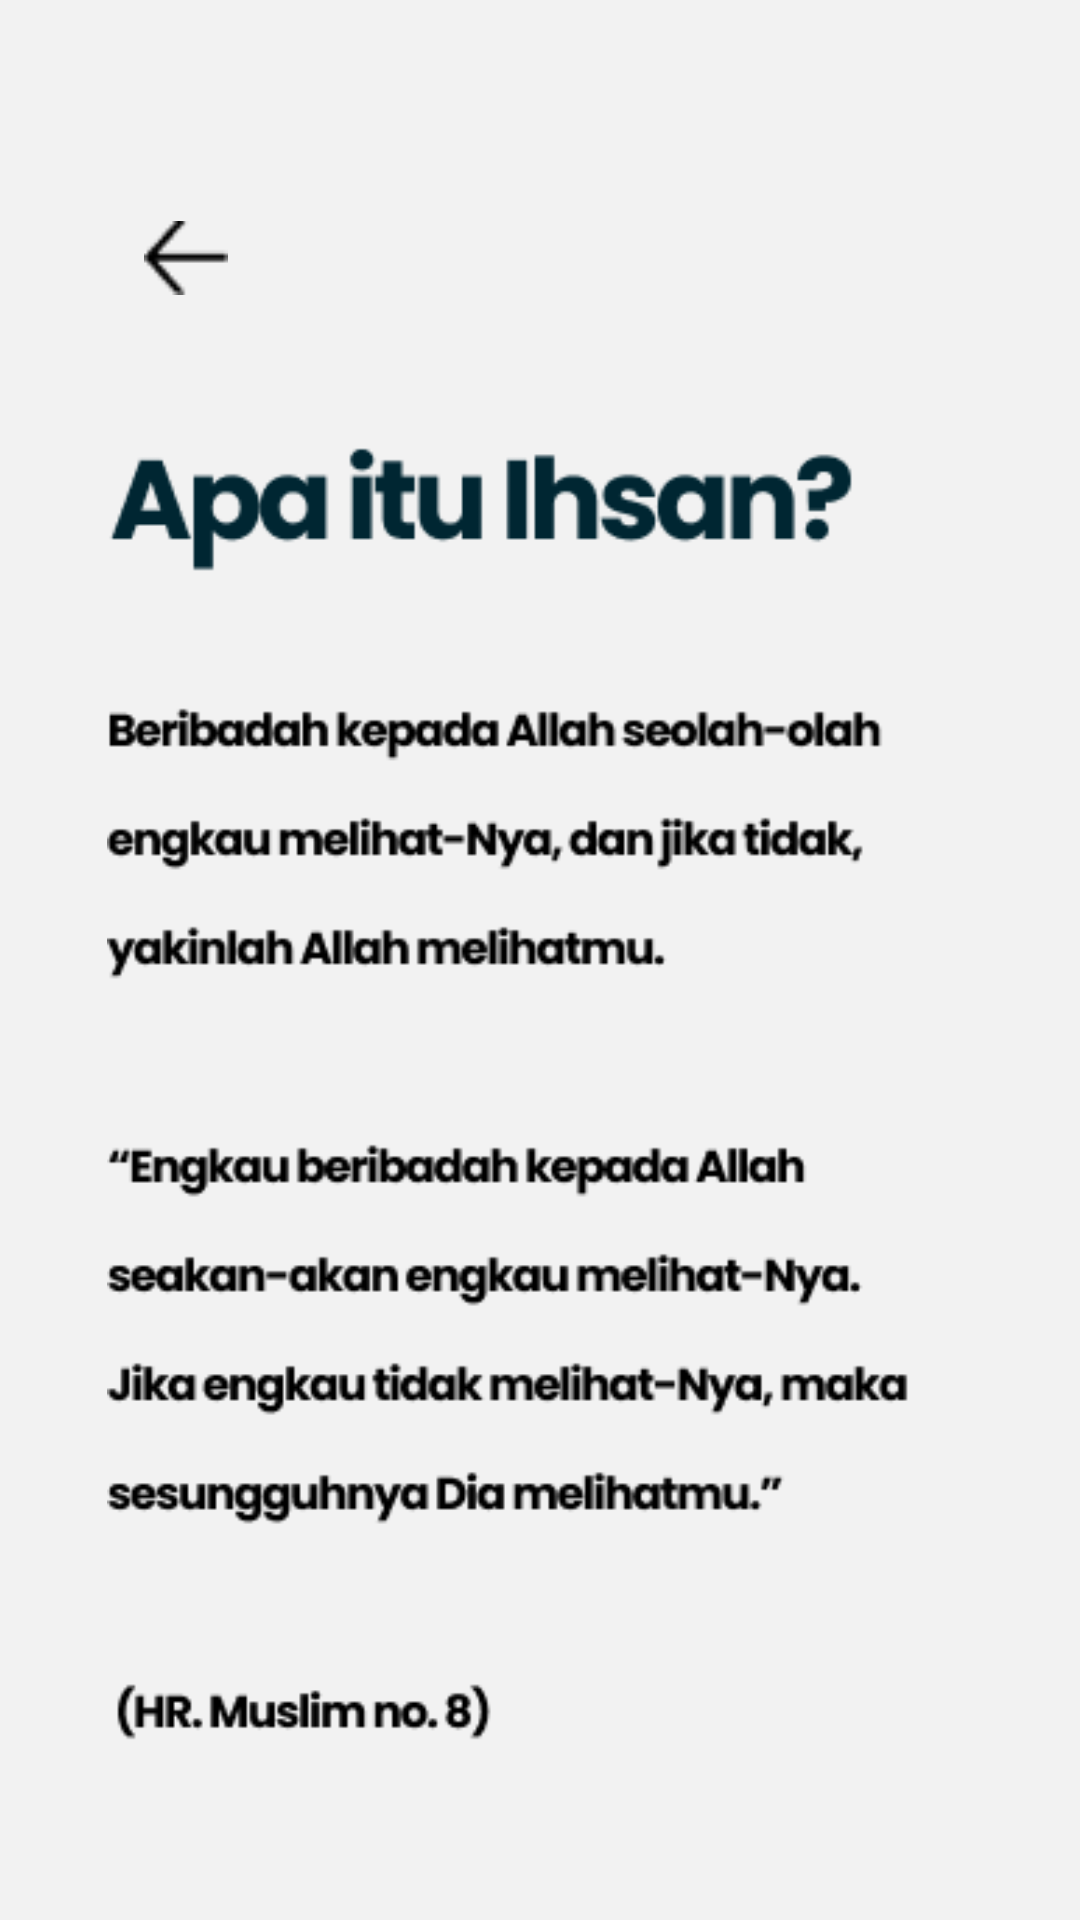

Point at icon controls on the screen. Image size 1080px x 1920px, points as point (x, y).
back: point (186, 258)
